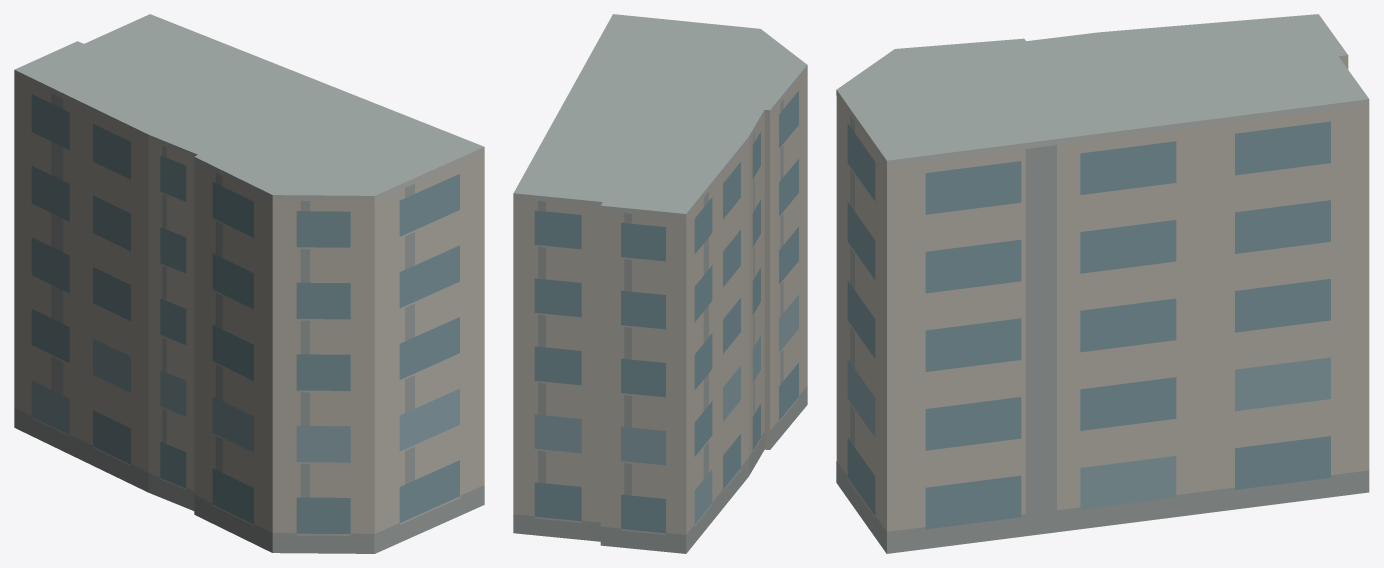
Rendered from survey-upis-32767251.glb.
The picture shows the model from 3 angles, left to right: view 1: azimuth 30°, elevation 25°; view 2: azimuth 150°, elevation 25°; view 3: azimuth 270°, elevation 25°; orthographic projection. The views are drawn at different scales.
Visible parts, largest first — view 1: survey-upis-32767251.tmp; view 2: survey-upis-32767251.tmp; view 3: survey-upis-32767251.tmp.
Part boxes in pixels (x1,y1,x2,y2): survey-upis-32767251.tmp: (14, 14, 484, 553); survey-upis-32767251.tmp: (513, 14, 807, 553); survey-upis-32767251.tmp: (836, 14, 1369, 553).
Bounding box in the file's own units: 12.65 × 15.8 × 19.42.
